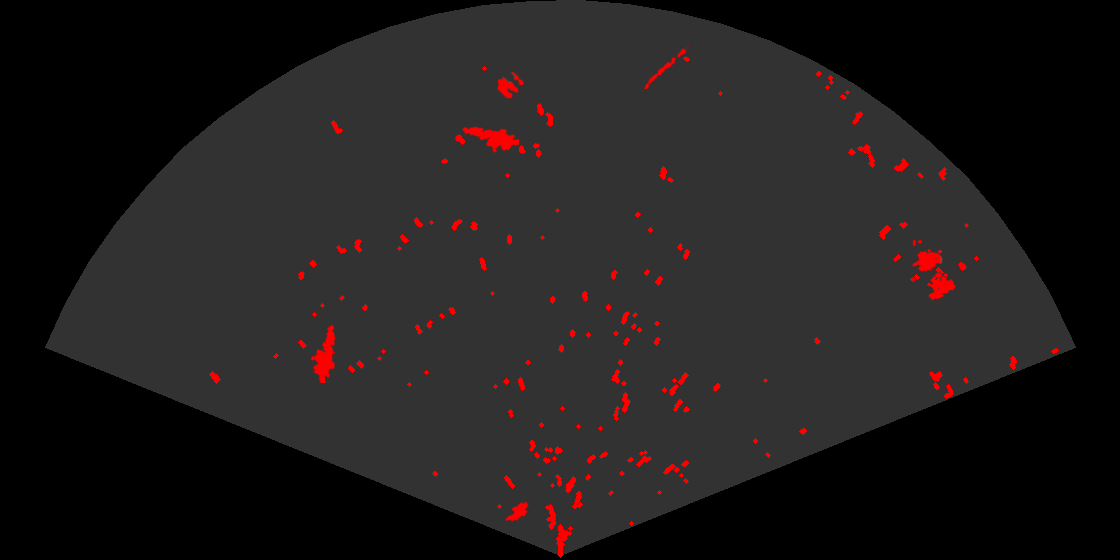AUV: (504, 500, 530, 523)
ball: (496, 70, 525, 100)
cage: (912, 240, 957, 302)
chain: (639, 43, 689, 92)
frogman: (461, 125, 519, 155), (309, 323, 337, 383)
